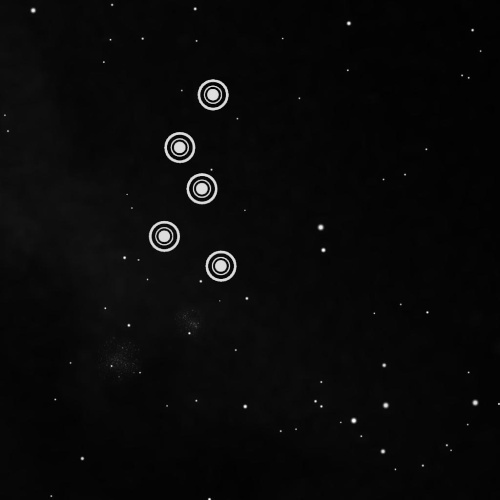cassiopeia: (136, 69, 244, 289)
